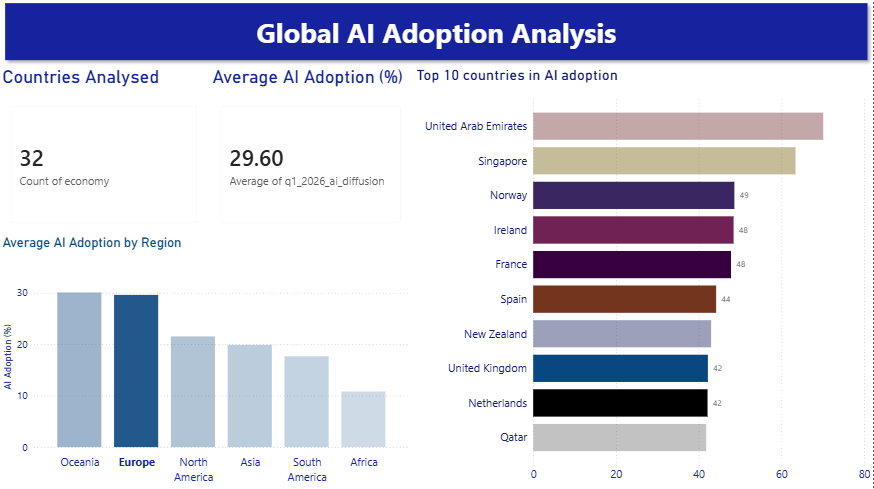

The page's visual inventory and layout, read from the dashboard file:
{"tool":"powerbi","page":{"name":"Page 1","canvas":[1280,720],"ordinal":0},"visuals":[{"type":"cardVisual","title":"Average AI Adoption (%)","fields":{"Data":["Avg(ai_gdp_analysis.q1_2026_ai_diffusion)"]},"box":[307.1,101.4,298.6,247.1],"z":0},{"type":"cardVisual","title":"Countries Analysed","fields":{"Data":["CountNonNull(ai_gdp_analysis_140.economy)"]},"box":[0,101.4,307.1,247.1],"z":1000},{"type":"clusteredBarChart","title":"Top 10 countries in AI adoption","fields":{"Category":["ai_gdp_analysis.economy"],"Y":["Sum(ai_gdp_analysis.q1_2026_ai_diffusion)"]},"box":[605.7,101.4,674.3,618.6],"z":2000},{"type":"shape","box":[0,0,1280,101.4],"z":3000},{"type":"columnChart","title":"Average AI Adoption by Region","fields":{"Category":["ai_gdp_analysis_140.WorldRegion"],"Y":["Avg(ai_gdp_analysis_140.q1_2026_ai_diffusion)"]},"box":[0,348.6,605.7,371.4],"z":4000}]}

Visuals, with their boxes in screenshot pixels (x1, y1, x2, y2), scaled from the page's 1280x720 canvas onto the 874x489 screenshot:
"Average AI Adoption (%)" cardVisual: 210,69,414,237
"Countries Analysed" cardVisual: 0,69,210,237
"Top 10 countries in AI adoption" clusteredBarChart: 414,69,873,488
shape: 0,0,873,69
"Average AI Adoption by Region" columnChart: 0,237,414,488
